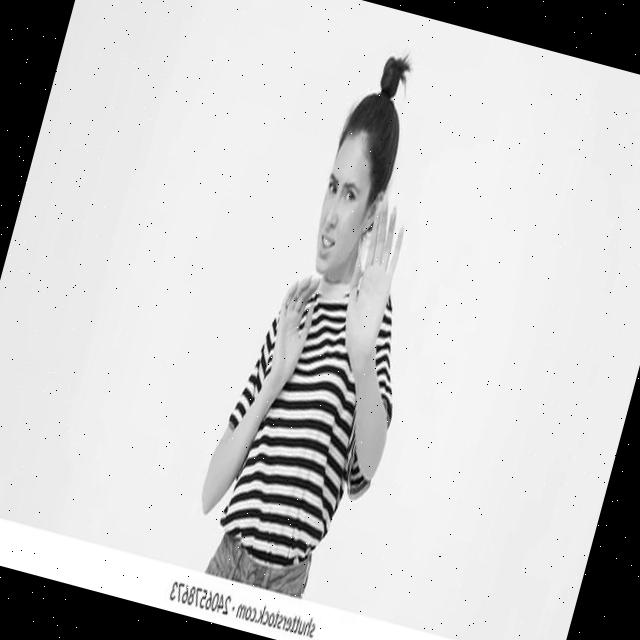Disgust: (304, 132, 382, 278)
